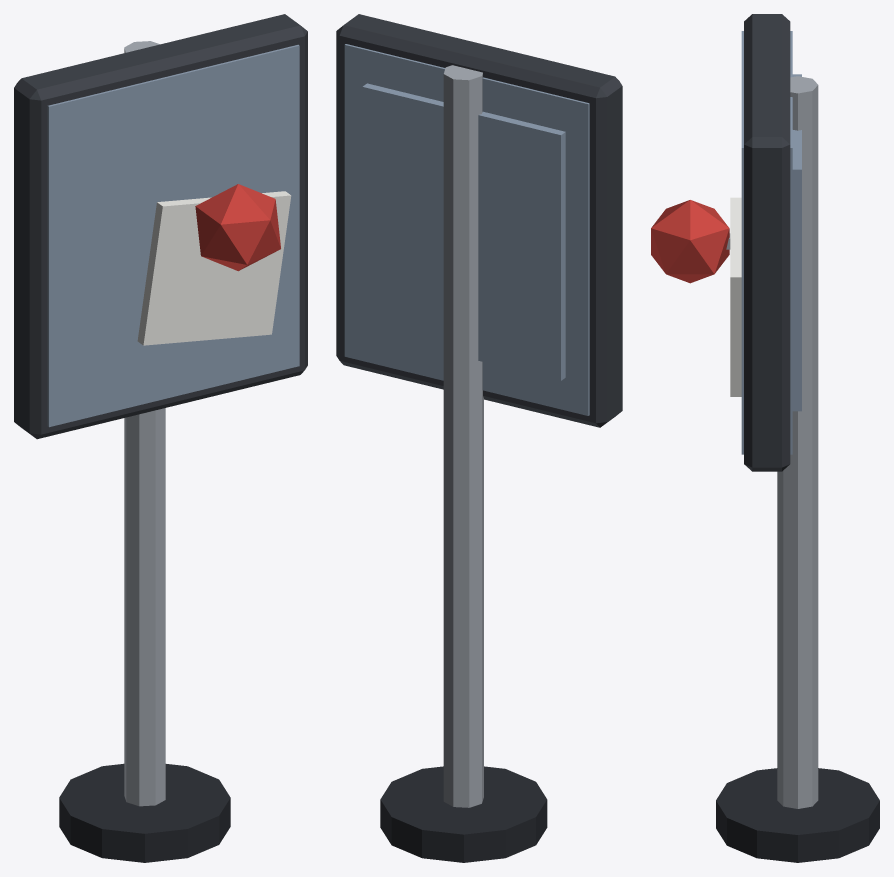
The model's file is selfservice_m2_1.glb.
3 views of the same model, side by side, from view 1: azimuth 30°, elevation 25°; view 2: azimuth 150°, elevation 25°; view 3: azimuth 270°, elevation 25° (orthographic). The views are drawn at different scales.
Visible parts, largest first — view 1: selfservice_m2_1_mesh; view 2: selfservice_m2_1_mesh; view 3: selfservice_m2_1_mesh.
Boxes of the visible parts, x1,y1,x2,y2 form: selfservice_m2_1_mesh: [14, 14, 307, 862]; selfservice_m2_1_mesh: [336, 14, 622, 862]; selfservice_m2_1_mesh: [651, 14, 879, 862].
Size of the model in its own units: 0.3 by 0.81 by 0.2233.
